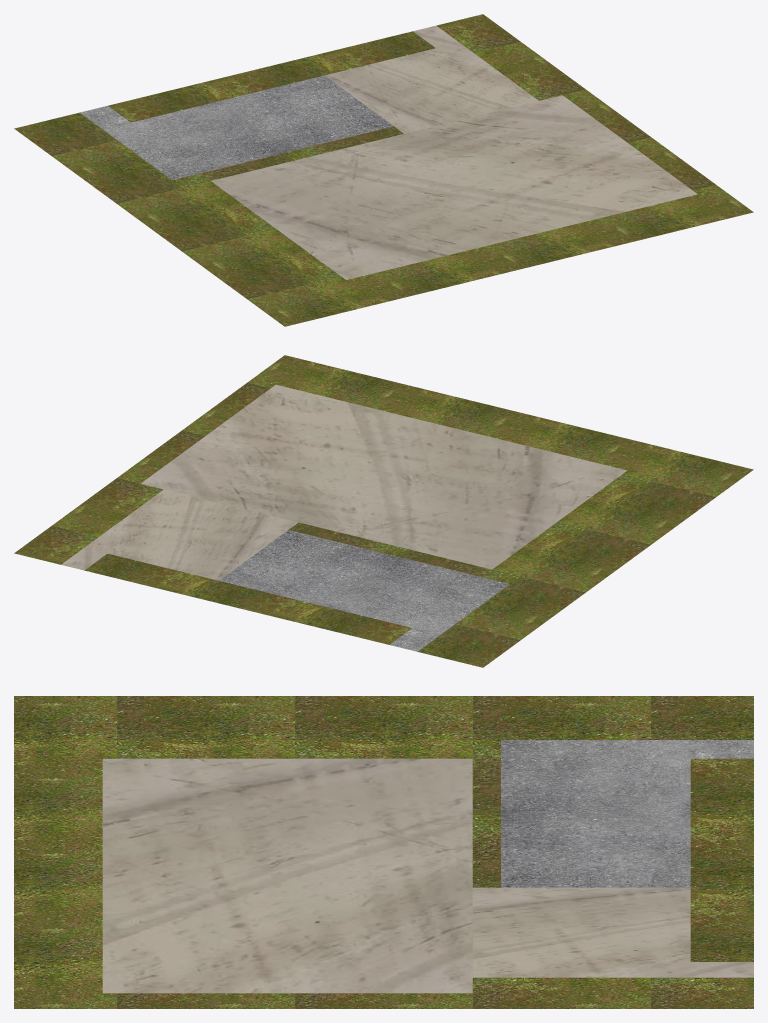
The model's file is ground.dae.
3 renders of one model, top to bottom at view 1: azimuth 30°, elevation 25°; view 2: azimuth 150°, elevation 25°; view 3: azimuth 270°, elevation 25°, orthographic. The views are drawn at different scales.
Visible parts, largest first — view 1: Grass, Factory_floor, Parking_lot, ground.001; view 2: Grass, Factory_floor, Parking_lot, ground.001; view 3: Grass, Factory_floor, Parking_lot, ground.001.
Boxes of the visible parts, x1=… form: Grass: x1=14, y1=14, x2=753, y2=326; Factory_floor: x1=211, y1=95, x2=697, y2=279; Parking_lot: x1=80, y1=75, x2=393, y2=180; ground.001: x1=325, y1=25, x2=538, y2=133; Grass: x1=14, y1=355, x2=753, y2=667; Factory_floor: x1=140, y1=384, x2=627, y2=569; Parking_lot: x1=219, y1=530, x2=509, y2=651; ground.001: x1=61, y1=489, x2=298, y2=580; Grass: x1=14, y1=696, x2=753, y2=1008; Factory_floor: x1=102, y1=758, x2=472, y2=993; Parking_lot: x1=501, y1=740, x2=753, y2=887; ground.001: x1=472, y1=887, x2=753, y2=977.
Size of the model in its own units: 100 by 100 by 0.
3 materials, 3 textured.
